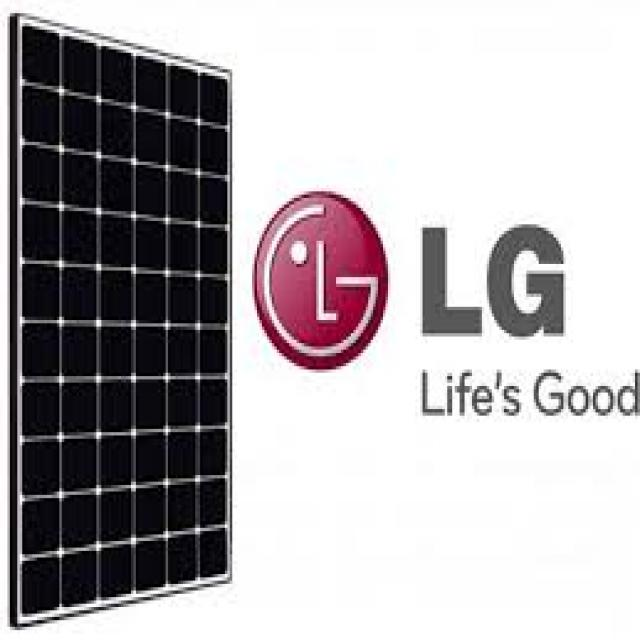no faulty: (15, 49, 233, 636)
